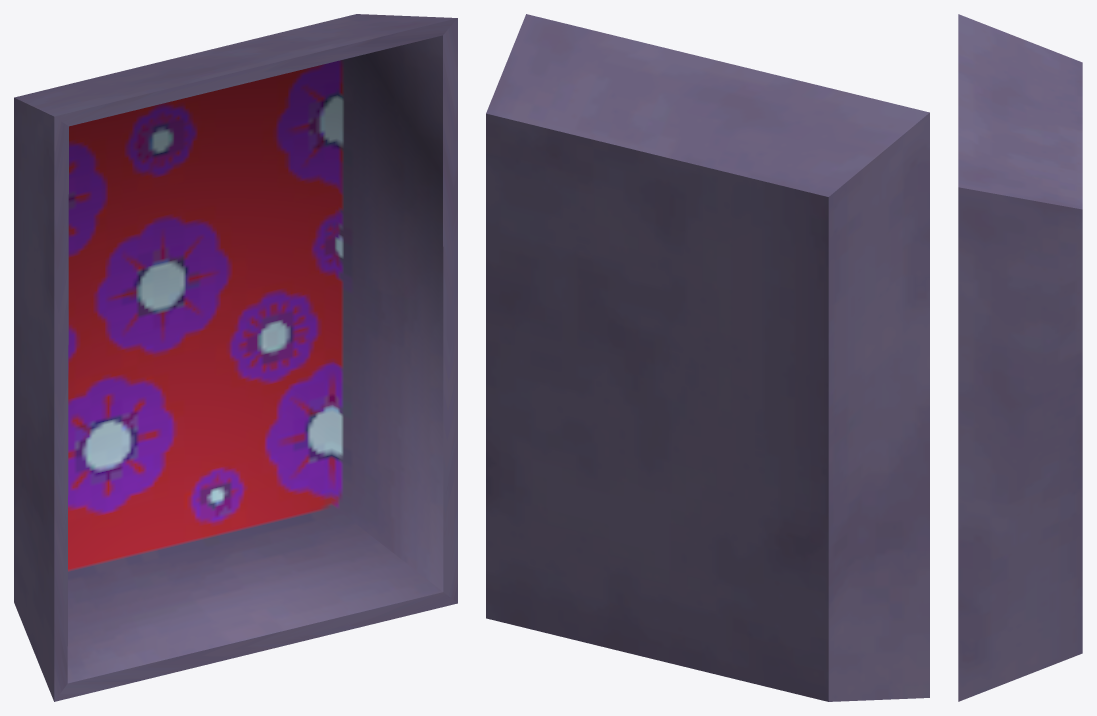
Rendered from nt_2020_storage_bin_LOD2.obj.
3 renders of one model, left to right at view 1: azimuth 30°, elevation 25°; view 2: azimuth 150°, elevation 25°; view 3: azimuth 270°, elevation 25°, orthographic. The views are drawn at different scales.
Visible parts, largest first — view 1: mtl_nt_2020_storage_bin; view 2: mtl_nt_2020_storage_bin; view 3: mtl_nt_2020_storage_bin.
Part boxes in pixels (box(x1,y1,x2,y2)): mtl_nt_2020_storage_bin: box(14, 14, 457, 701); mtl_nt_2020_storage_bin: box(486, 14, 929, 701); mtl_nt_2020_storage_bin: box(958, 14, 1082, 701).
Size of the model in its own units: 41.01 by 56.82 by 12.45.
